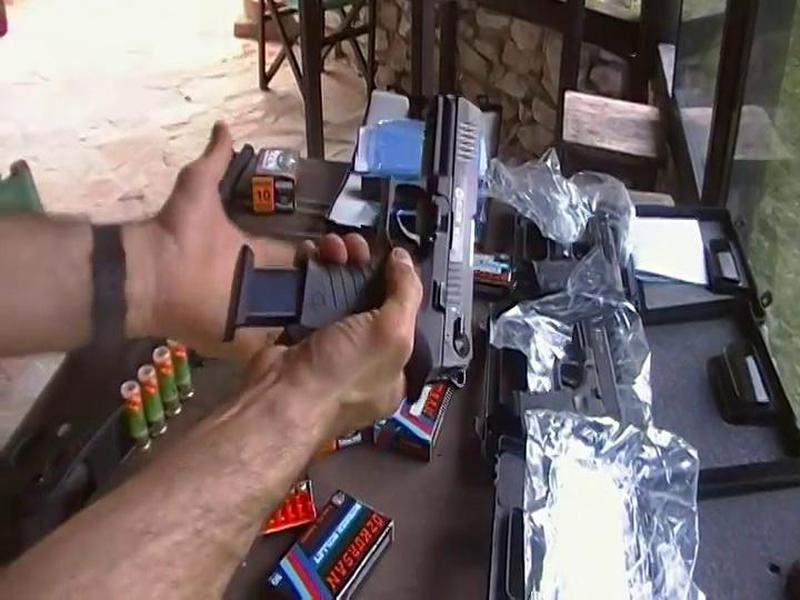Pistola: (257, 74, 520, 400)
